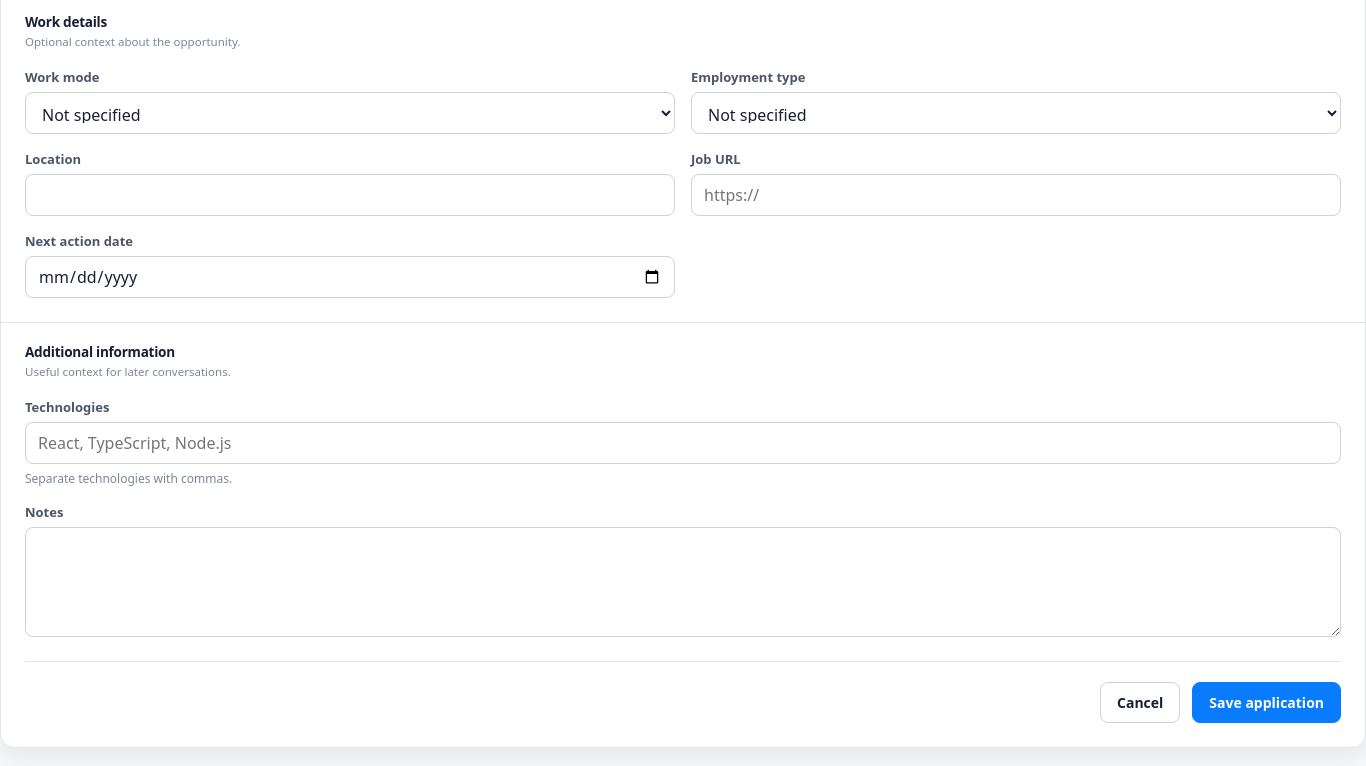
Scenario: ApplicationForm › reports all required fields
The width and height of the screenshot is (1366, 766).
(page scrolled)
Click the button "Save application" at (1267, 703), box 1192,682 -> 1341,723
(page scrolled)
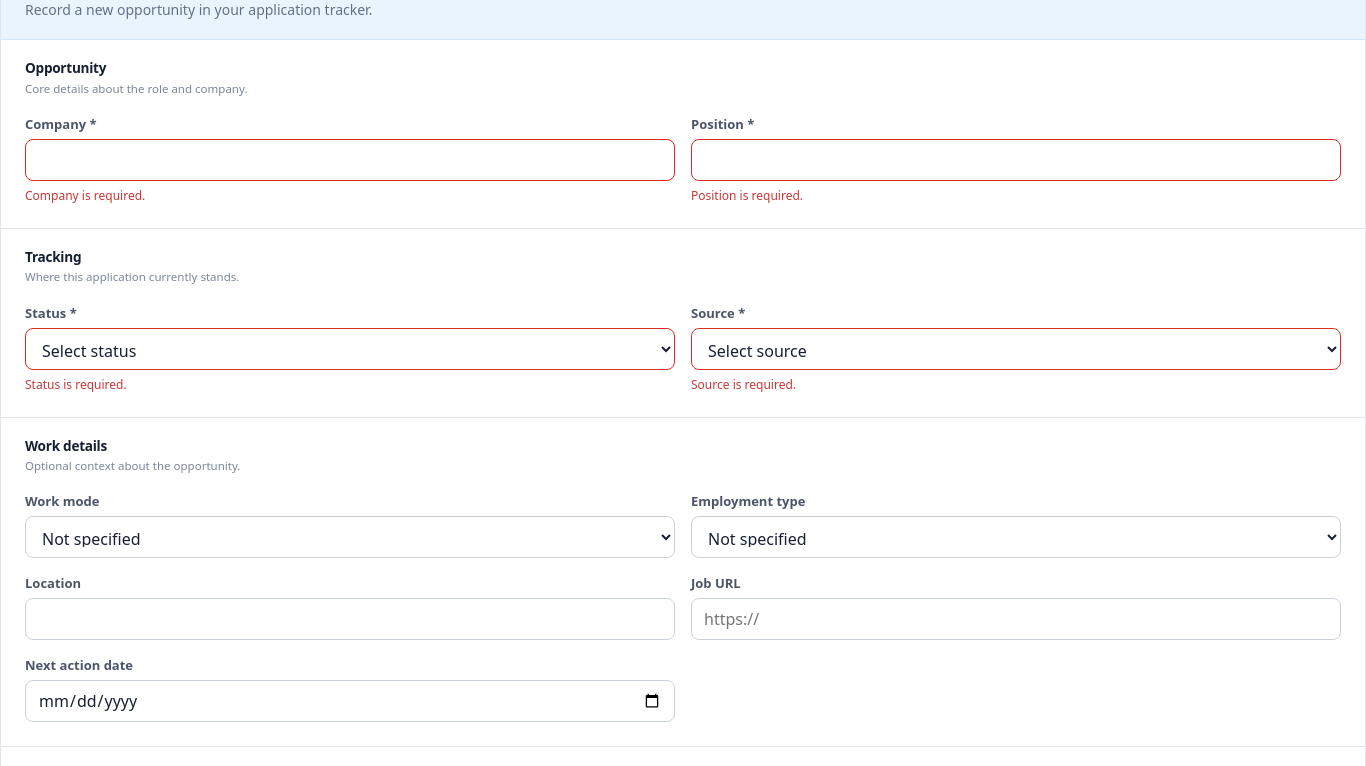
Check: the text "Company is required." is shown, box 25,187 -> 145,204
Check: the text "Position is required." is shown, box 691,187 -> 803,204
Check: the text "Status is required." is shown, box 25,376 -> 127,392
